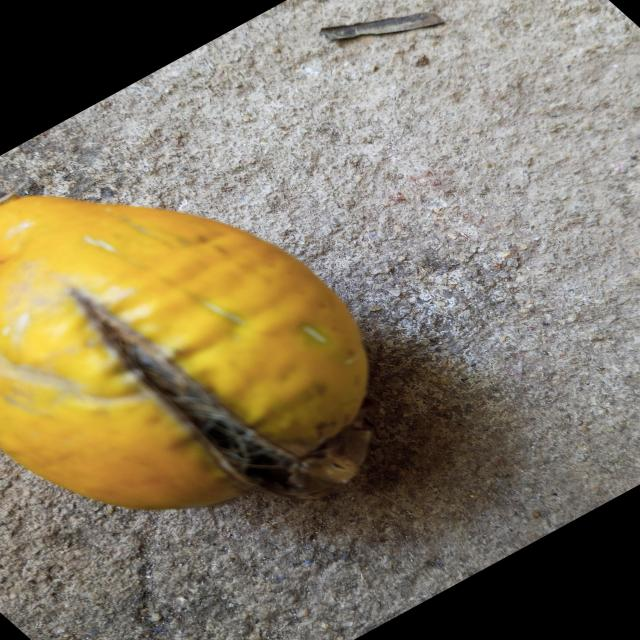damaged: (0, 197, 371, 514)
